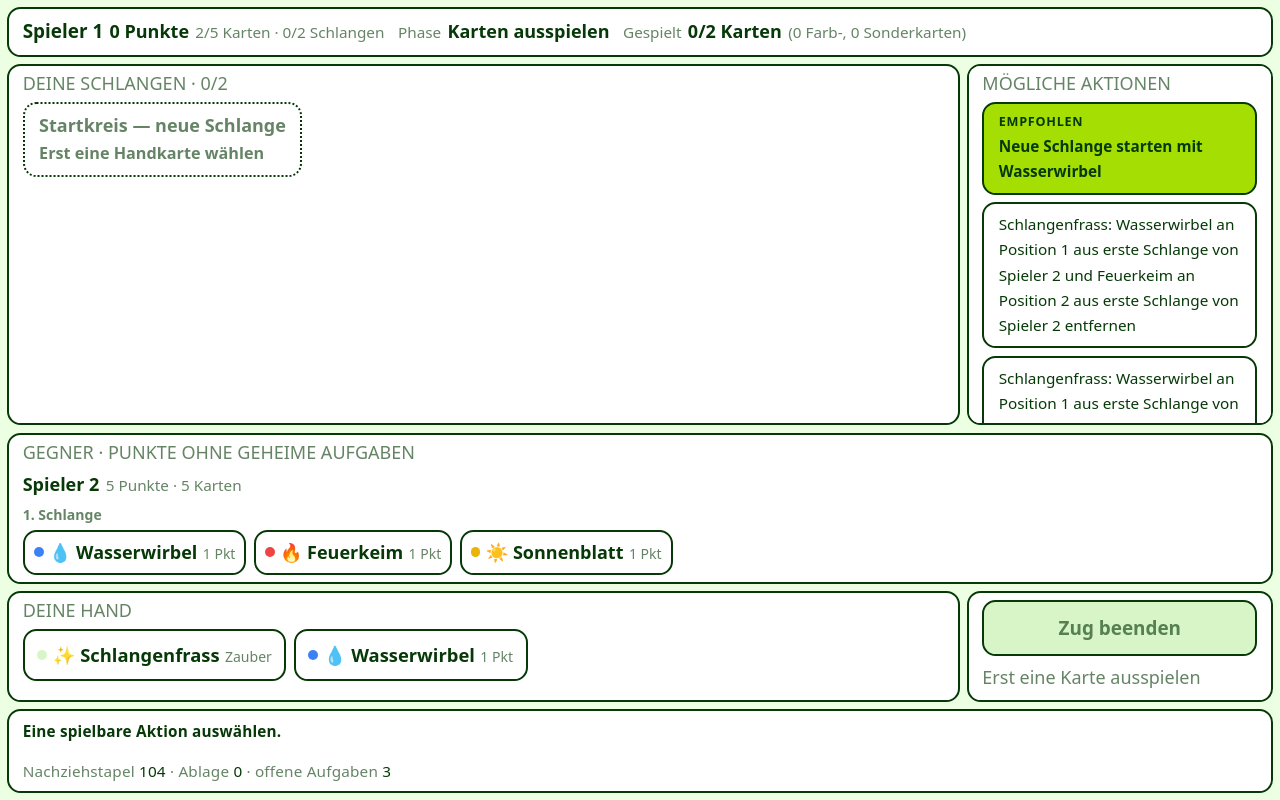
Sonderkarten über Brettziele › verwirft eine halbe Zielauswahl, wenn die Handkarte gewechselt wird
Click the button "✨ Schlangenfrass Zauber" at (155, 655), box x1=23 y1=629 x2=286 y2=681
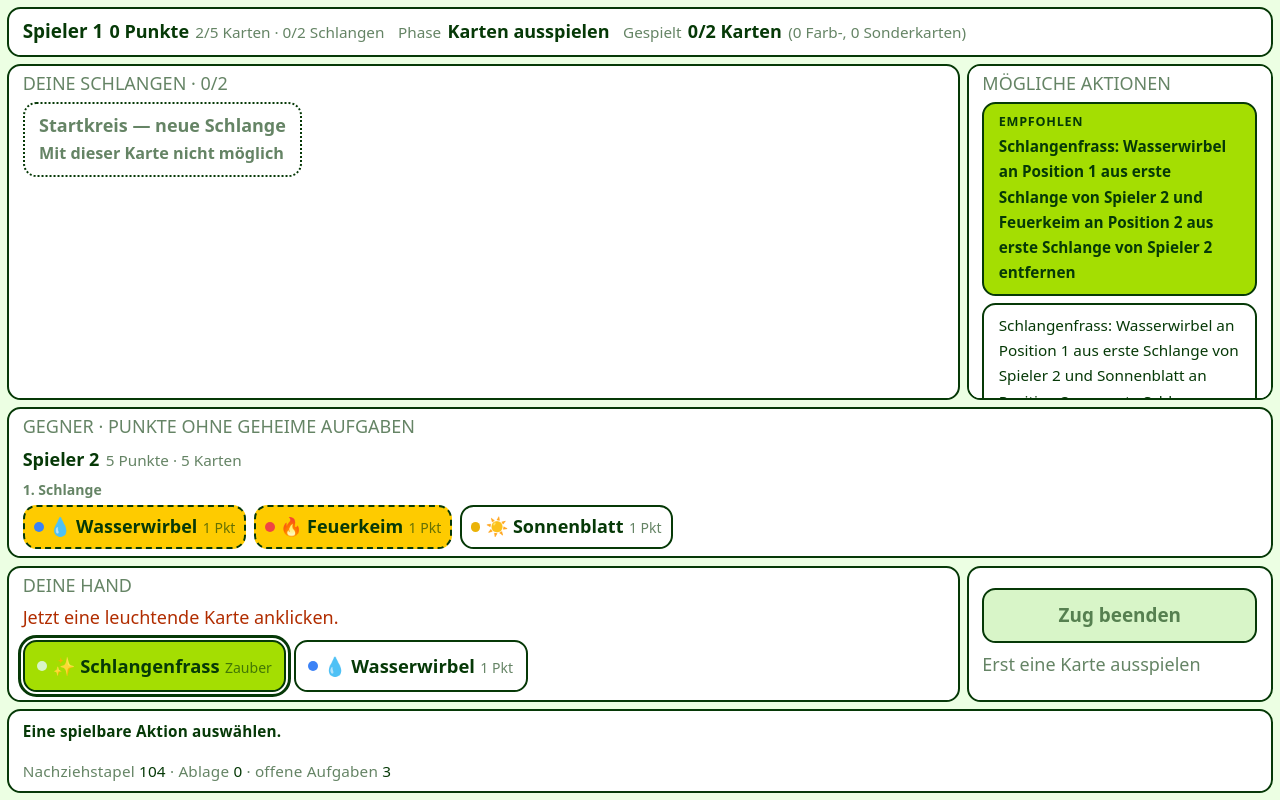
Click the button "💧 Wasserwirbel 1 Pkt" below "Punkte ·" at (135, 527), box x1=23 y1=505 x2=246 y2=549
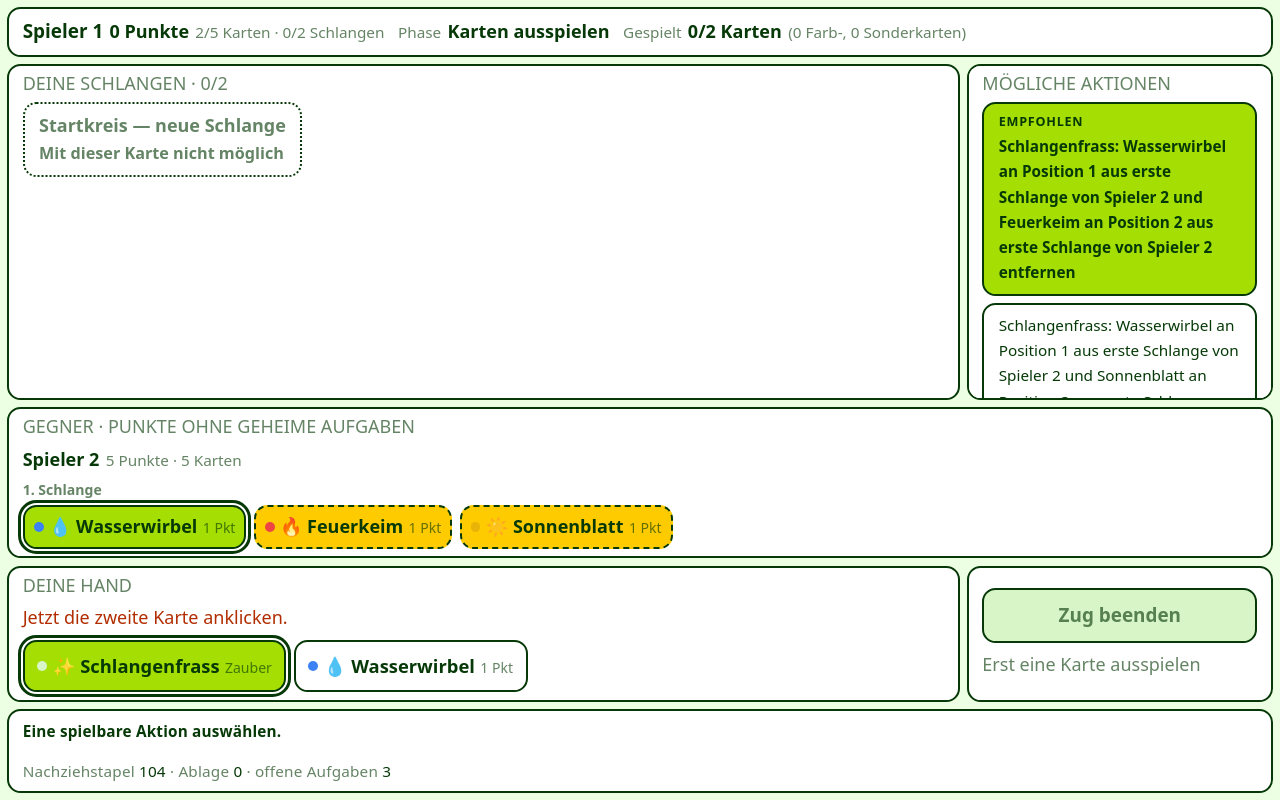
Expected: the element "Deine Hand" shows "zweite Karte", x1=23 y1=605 x2=288 y2=629
Click the button "💧 Wasserwirbel 1 Pkt" below "Jetzt die zweite Karte anklicken." at (411, 666), box x1=294 y1=640 x2=528 y2=692
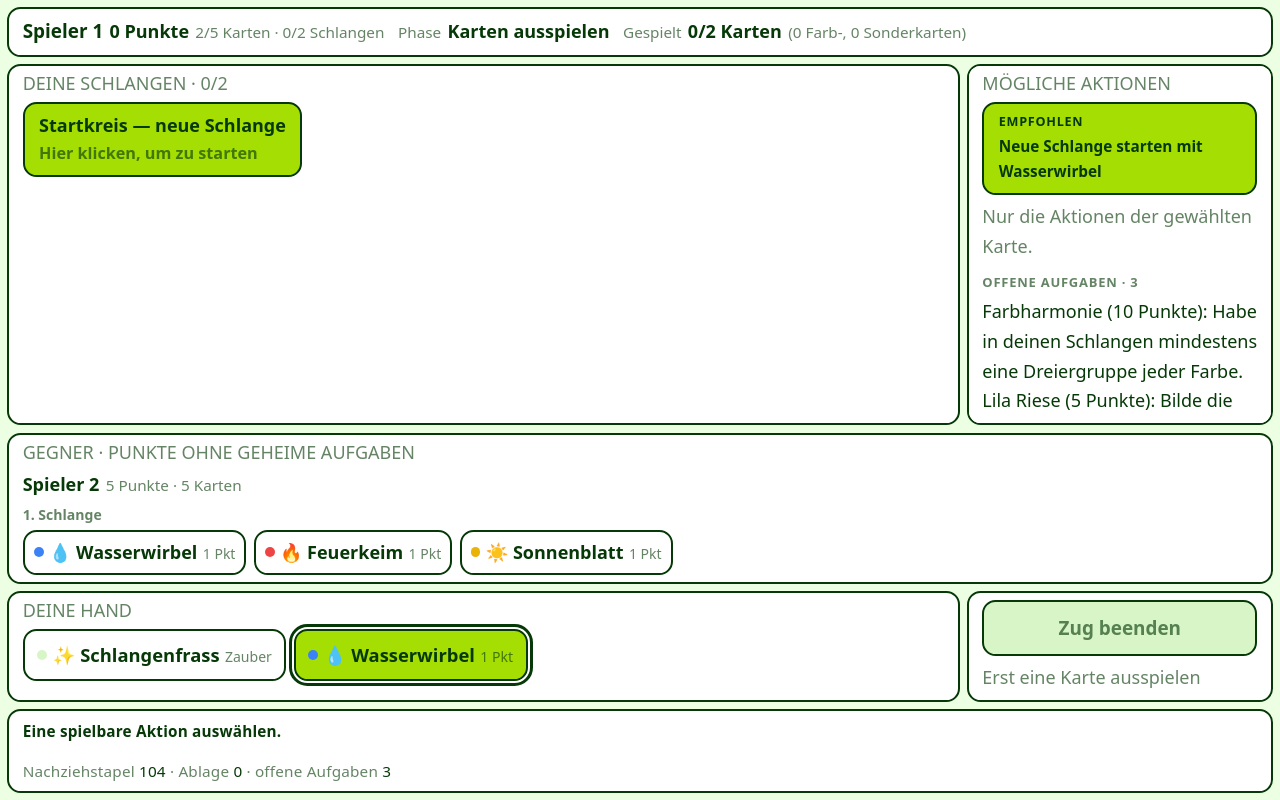
Expected: the element "Deine Hand" no longer shows "zweite Karte", x1=7 y1=591 x2=960 y2=702
